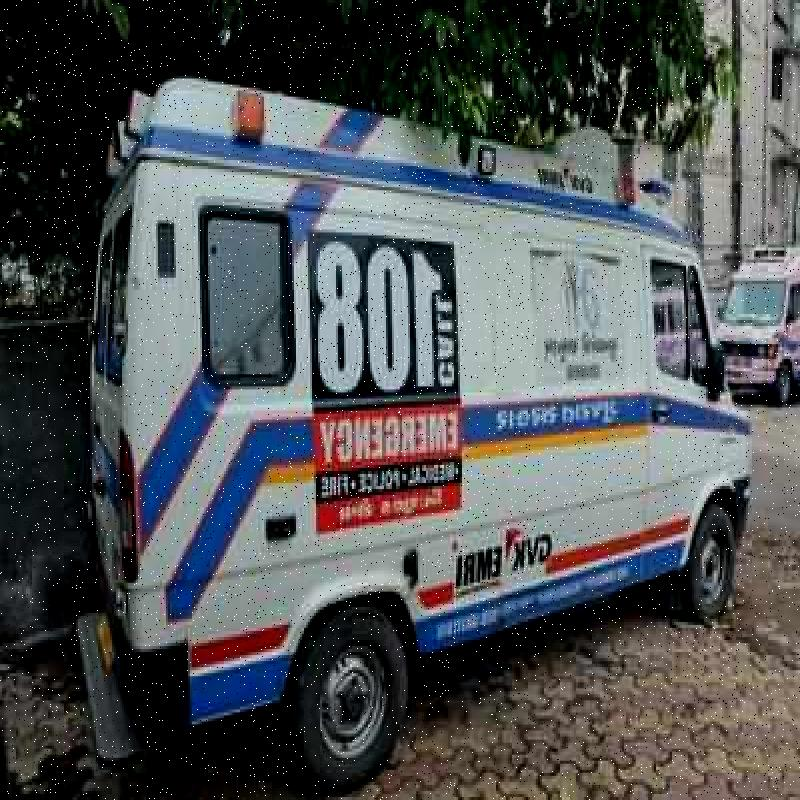ambulance: (128, 103, 744, 741)
